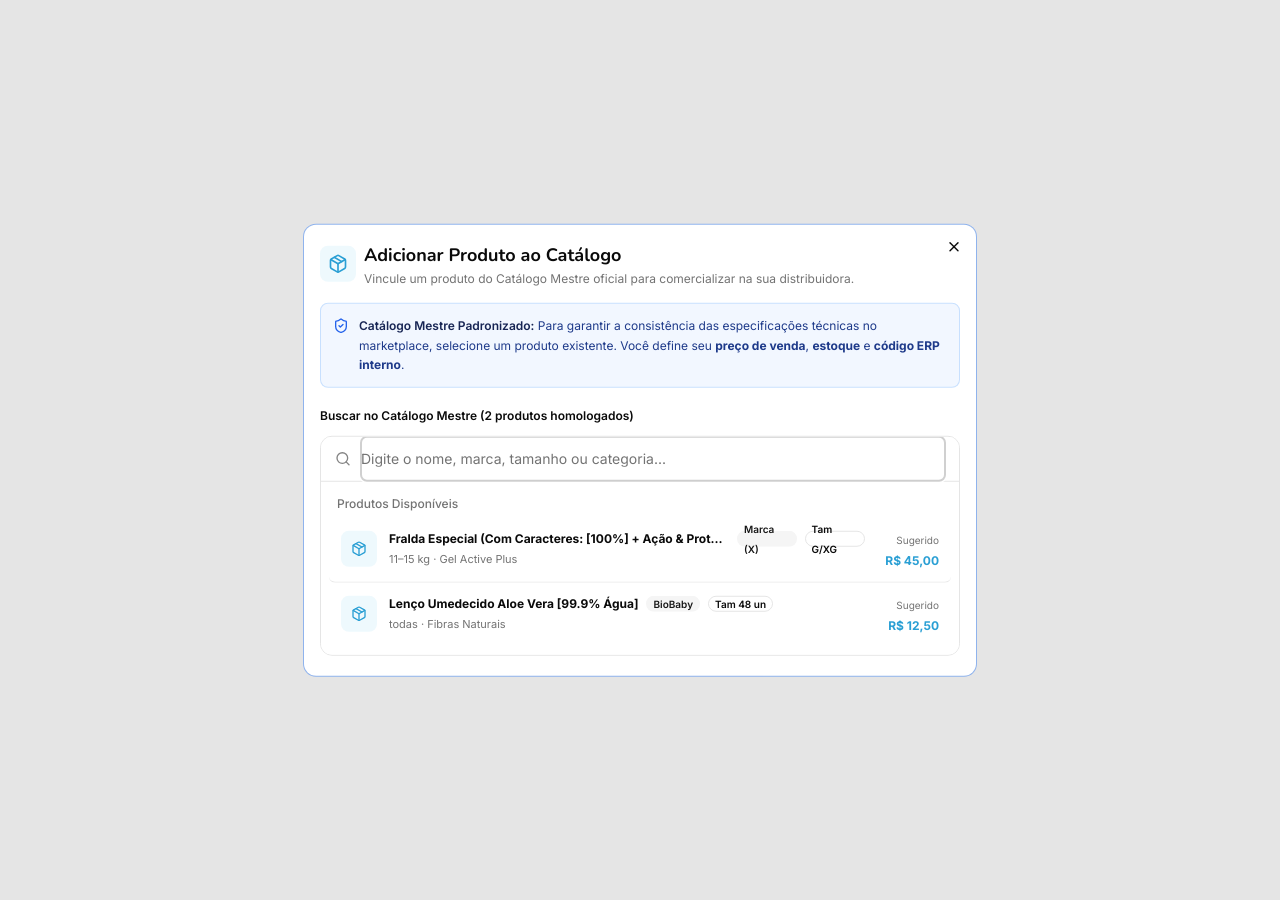
Test: Milestone 3 Adversarial Stress Testing › 2. AddProductDialog Adversarial Suite › rejects 0, negative prices, non-numbers and empty prices with specific error messages
// Select first item
Click the option with test id "master-item-m-special-1" at (359, 548), box [329,517,951,582]
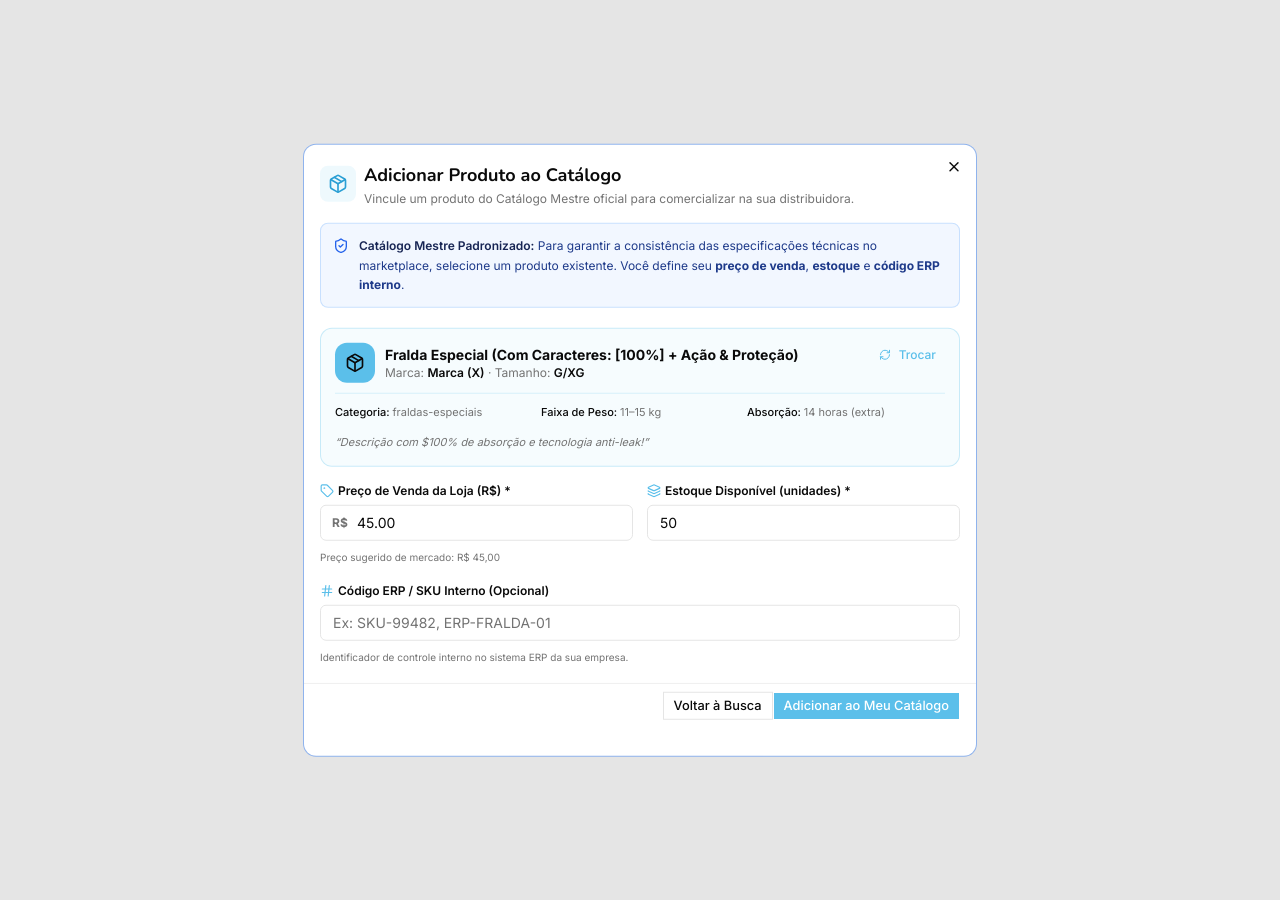
// Test 0 price
Replace the text in the number field with test id "custom-price-input" with "0" at (476, 522), box [320,504,633,540]
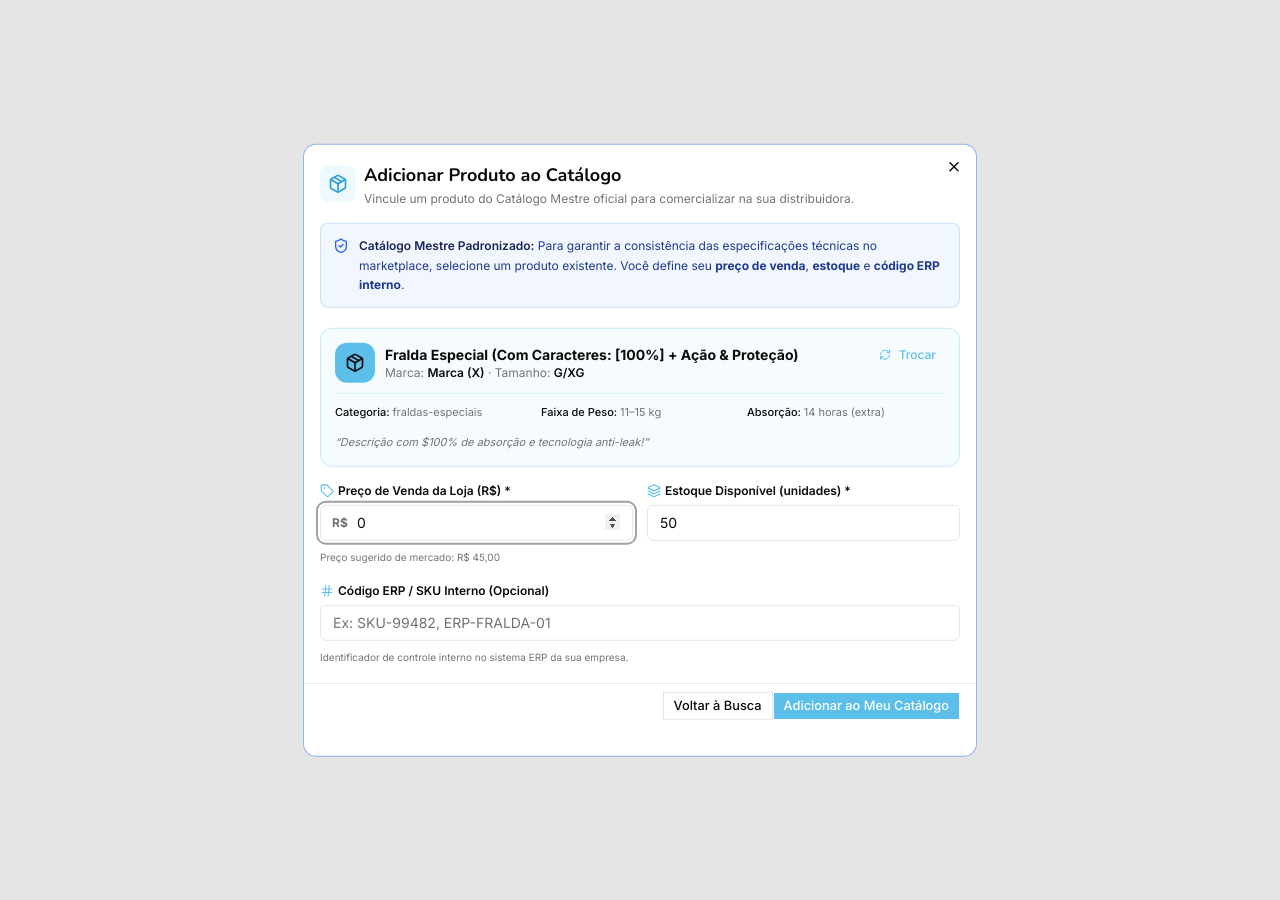
Click the button with test id "submit-add-product-btn" at (866, 705), box [773,691,960,719]
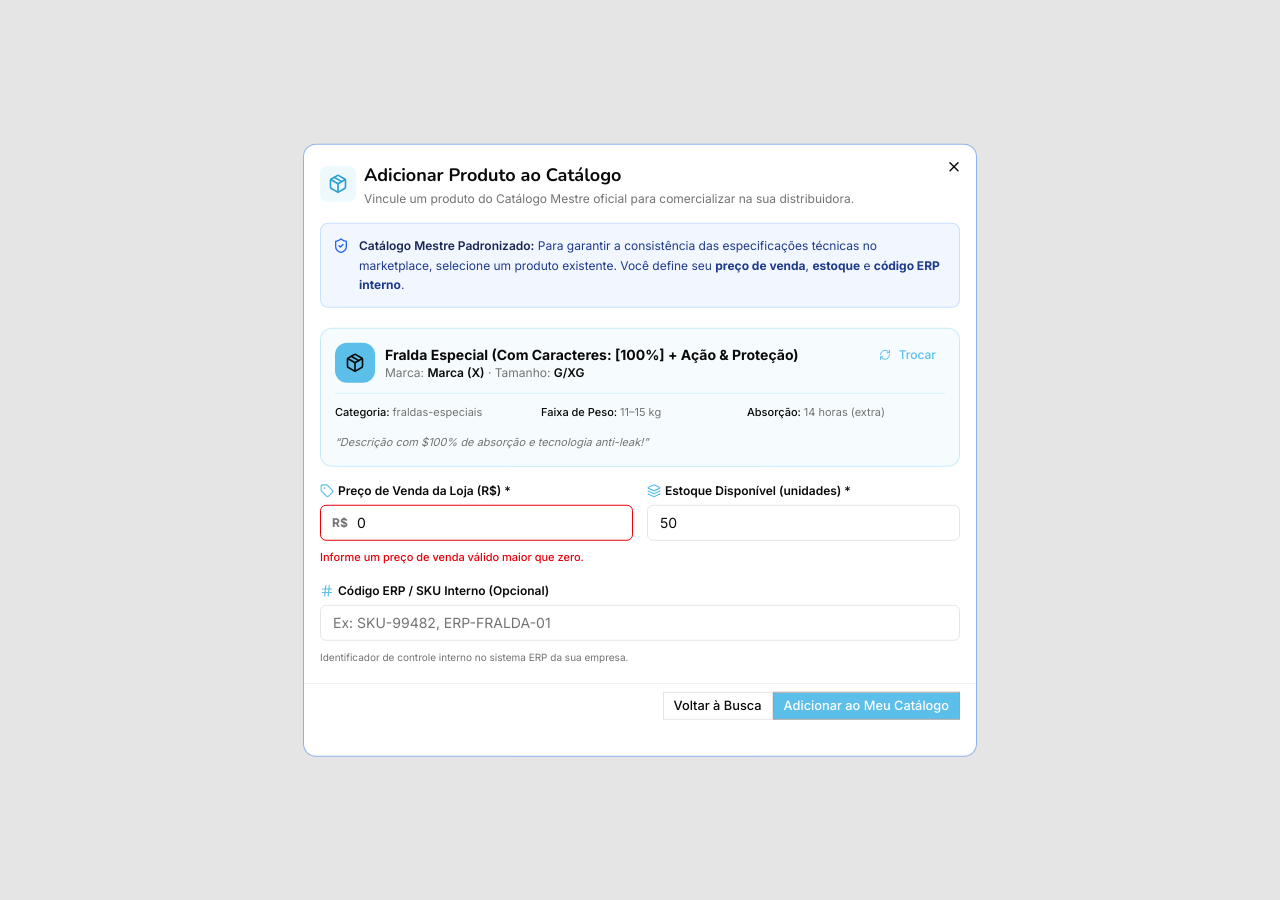
Expected: the text "Informe um preço de venda válido maior que zero." is shown, [320,549,584,563]
// Test negative price
Replace the text in the number field with test id "custom-price-input" with "-19.90" at (476, 522), box [320,504,633,540]
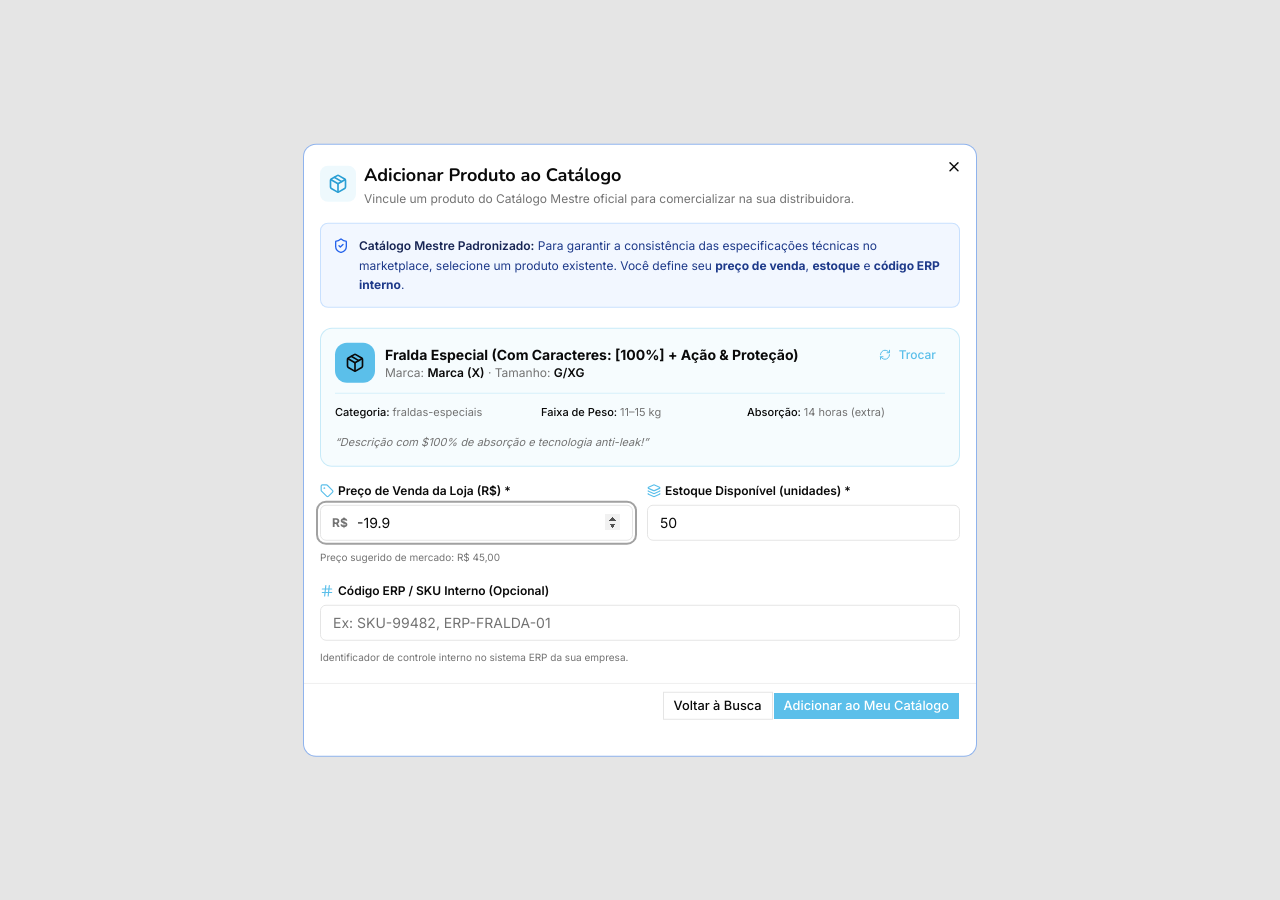
Click the button with test id "submit-add-product-btn" at (866, 705), box [773,691,960,719]
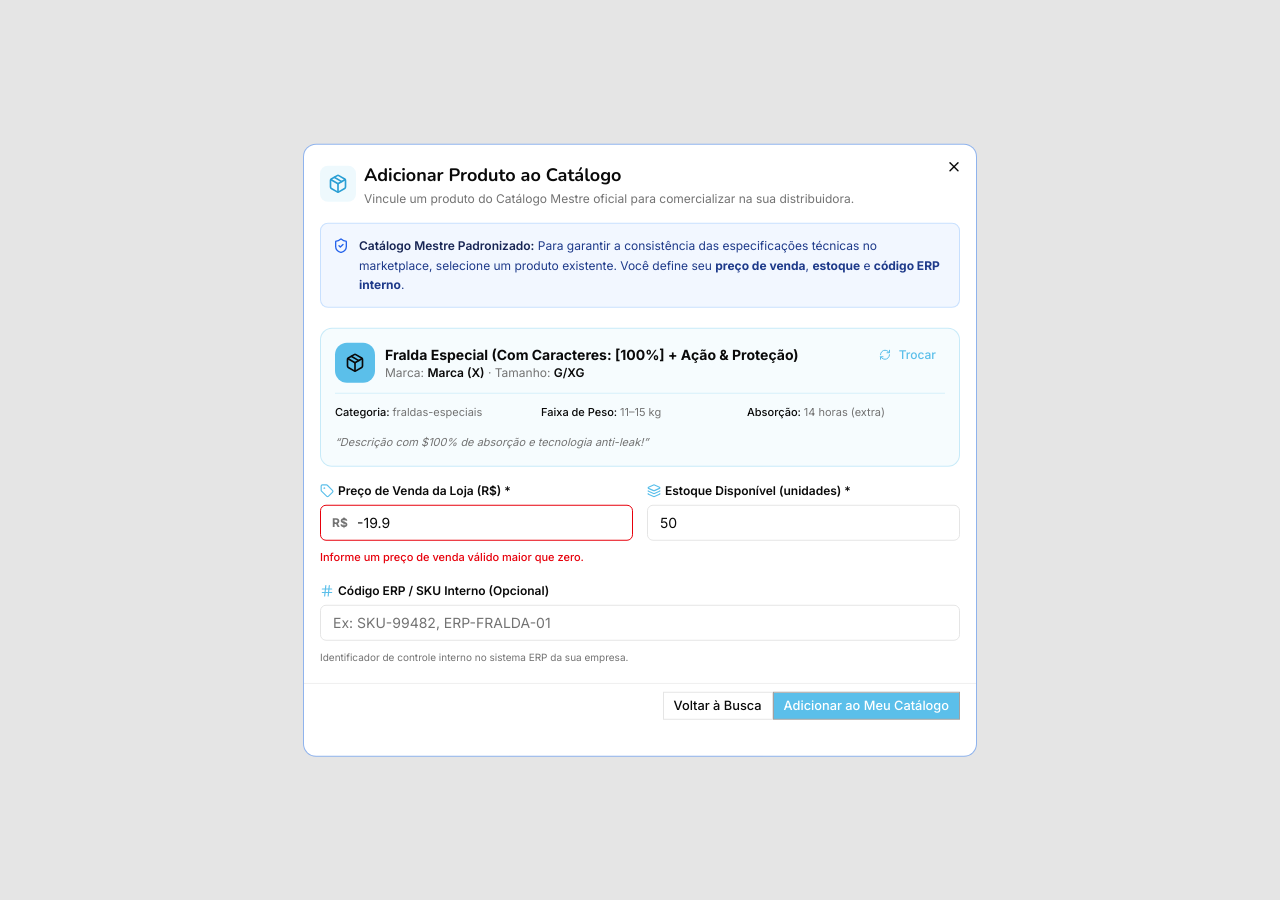
Expected: the text "Informe um preço de venda válido maior que zero." is shown, [320,549,584,563]
